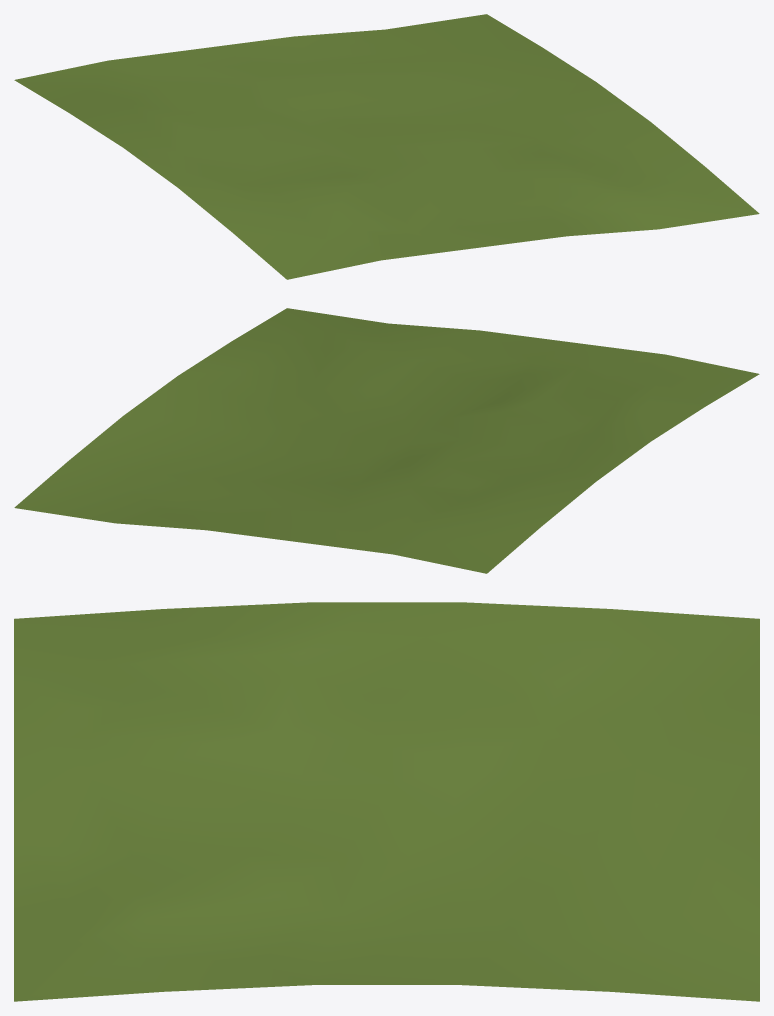
The model's file is rpgpp_ag_terrain_hill_01a_10x10m.fbx.
The picture shows the model from 3 angles, top to bottom: view 1: azimuth 30°, elevation 25°; view 2: azimuth 150°, elevation 25°; view 3: azimuth 270°, elevation 25°; orthographic projection. The views are drawn at different scales.
Visible parts, largest first — view 1: rpgpp_ag_terrain_hill_01a_10x10m; view 2: rpgpp_ag_terrain_hill_01a_10x10m; view 3: rpgpp_ag_terrain_hill_01a_10x10m.
Boxes of the visible parts, bbox=[...] form: rpgpp_ag_terrain_hill_01a_10x10m: bbox=[14, 14, 759, 279]; rpgpp_ag_terrain_hill_01a_10x10m: bbox=[14, 308, 759, 573]; rpgpp_ag_terrain_hill_01a_10x10m: bbox=[14, 602, 759, 1001].
Bounding box in the file's own units: 10 × 1.25 × 10.
